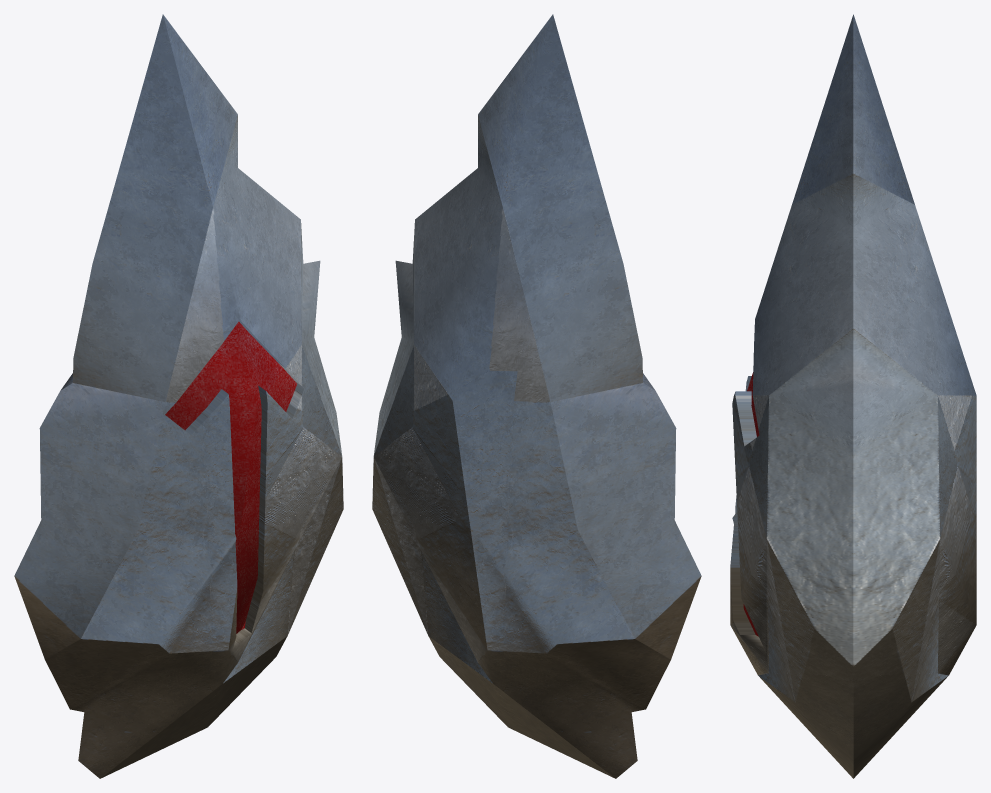
File: Whirlwind_Sariel.fbx
3 renders of one model, left to right at view 1: azimuth 30°, elevation 25°; view 2: azimuth 150°, elevation 25°; view 3: azimuth 270°, elevation 25°, orthographic. The views are drawn at different scales.
Parts seen in each view (by area): view 1: E_Raphael's Touch; view 2: E_Raphael's Touch; view 3: E_Raphael's Touch.
Part boxes in pixels (box(x1,y1,x2,y2)): E_Raphael's Touch: box(14, 14, 343, 778); E_Raphael's Touch: box(372, 14, 701, 778); E_Raphael's Touch: box(730, 14, 976, 778).
Size of the model in its own units: 33.15 by 73.71 by 21.42.
1 material, 1 textured.
